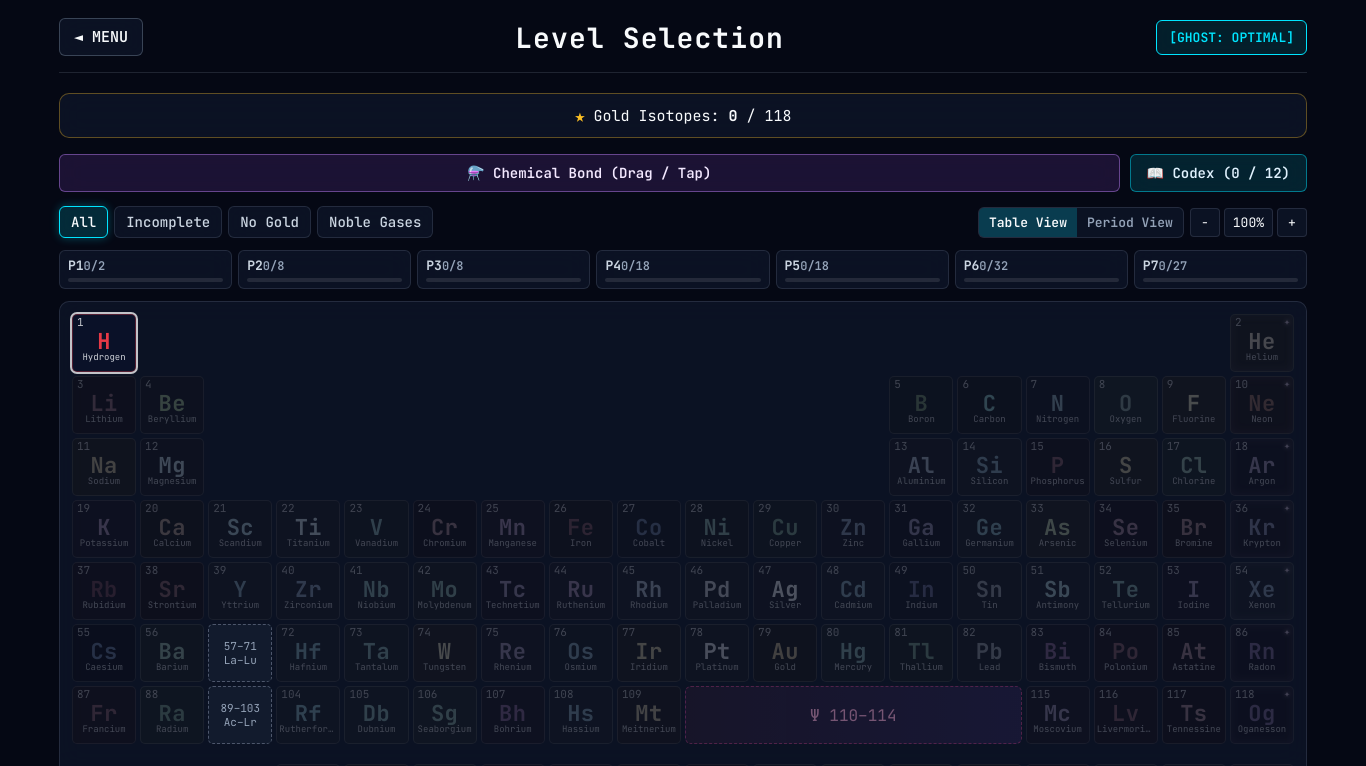
LevelSelection component › renders ghost toggle button and toggles 3-state when clicked
Click the button with aria-label "ghost enabled" at (1232, 37), box [1156,20,1307,54]
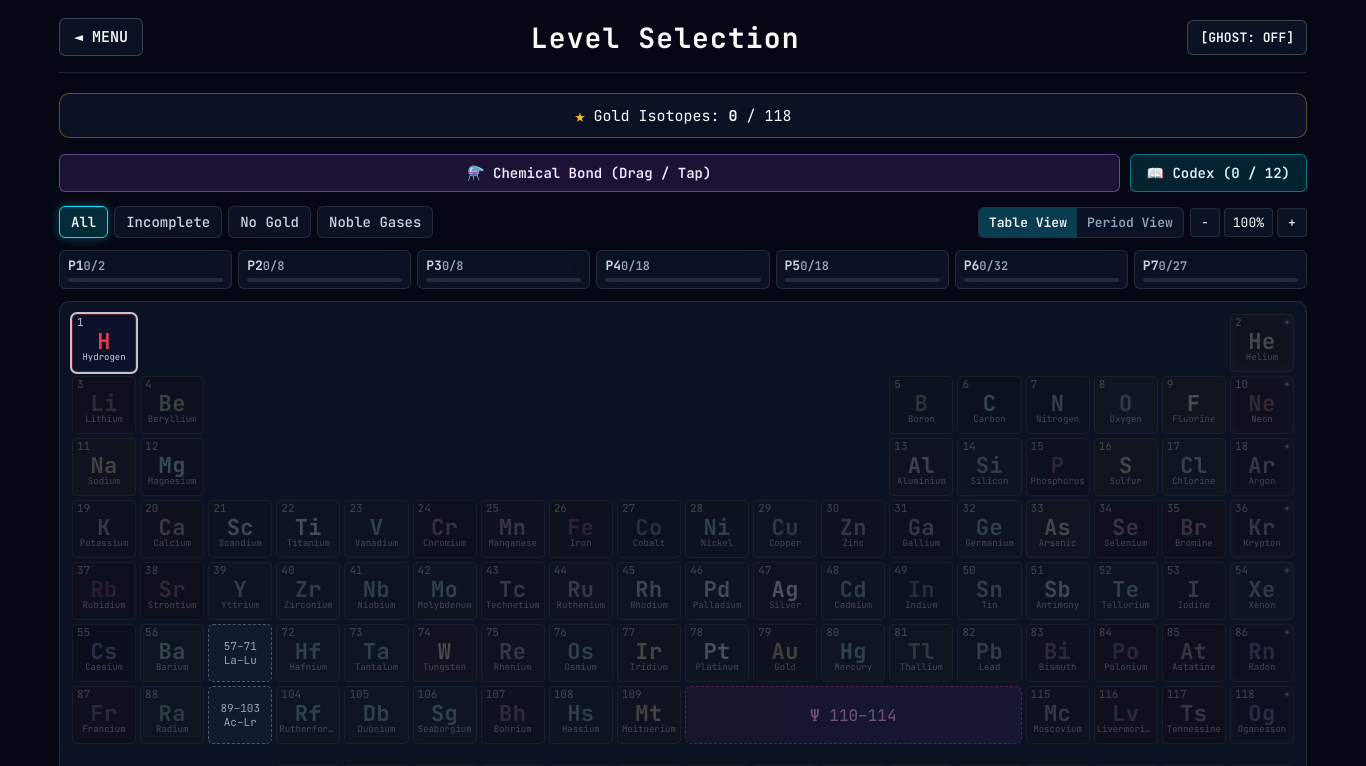
Now the button with aria-label "ghost disabled" reads "[GHOST: OFF]"
Click the button with aria-label "ghost disabled" at (1247, 37), box [1187,20,1307,54]
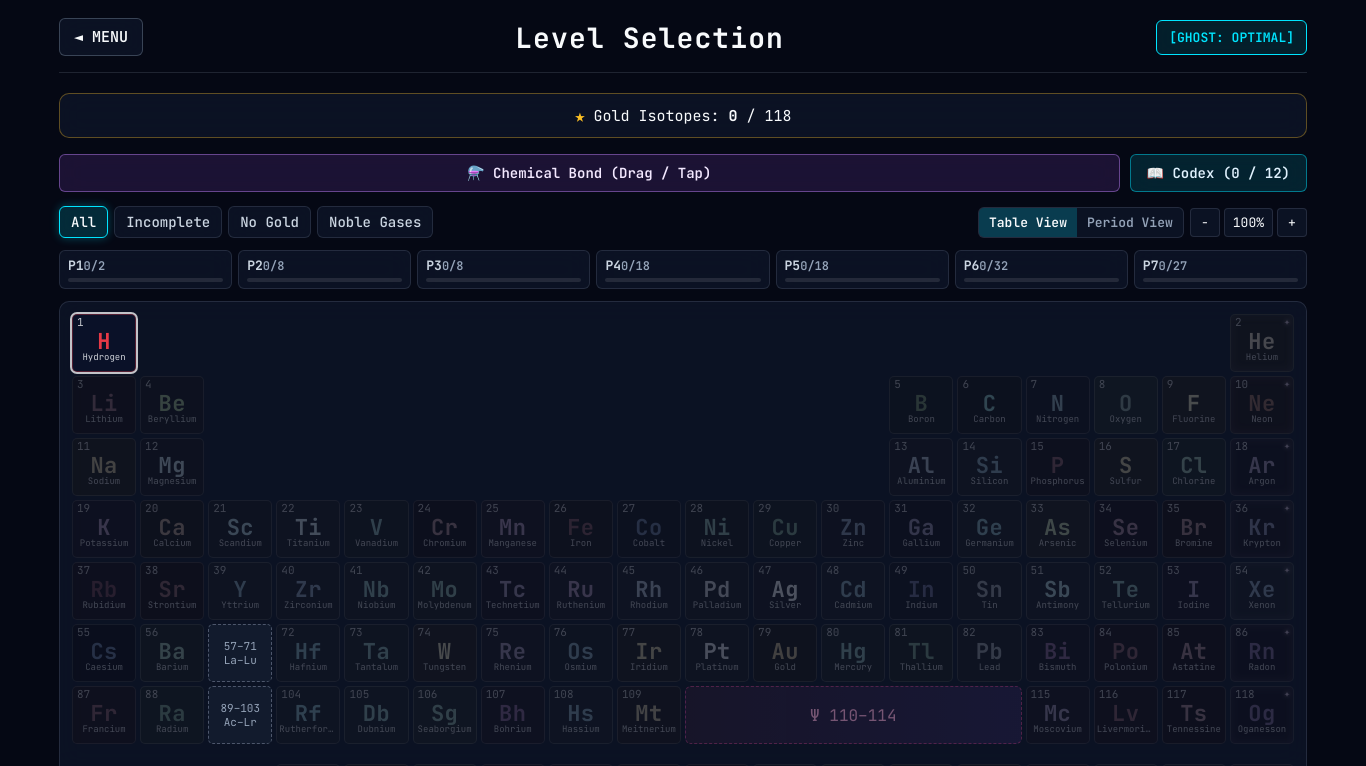
Now the button with aria-label "ghost enabled" reads "[GHOST: OPTIMAL]", box [1156,20,1307,54]
